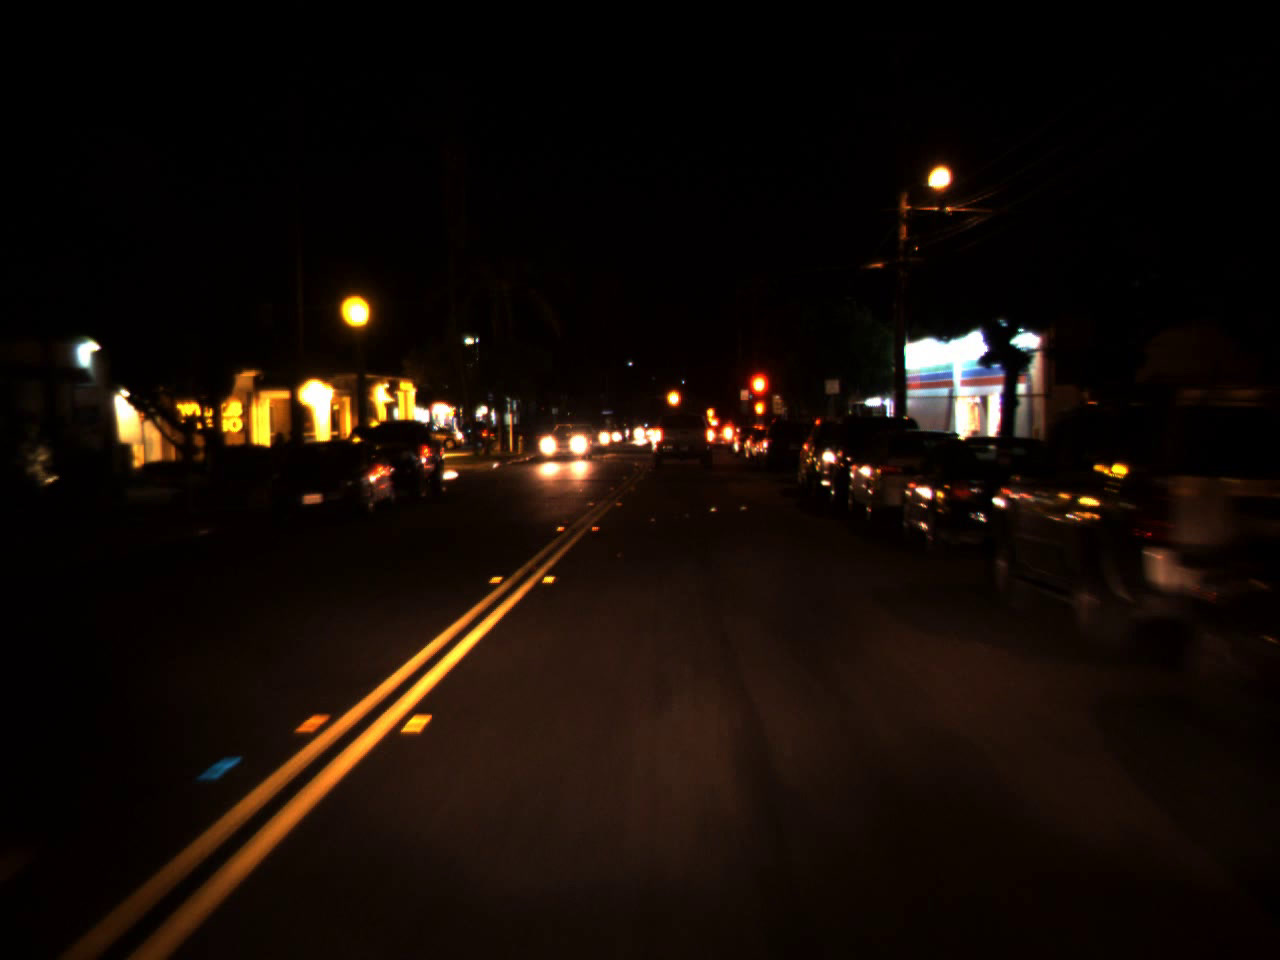stop: (745, 368, 772, 427)
warning: (663, 379, 682, 416), (703, 401, 716, 421)
